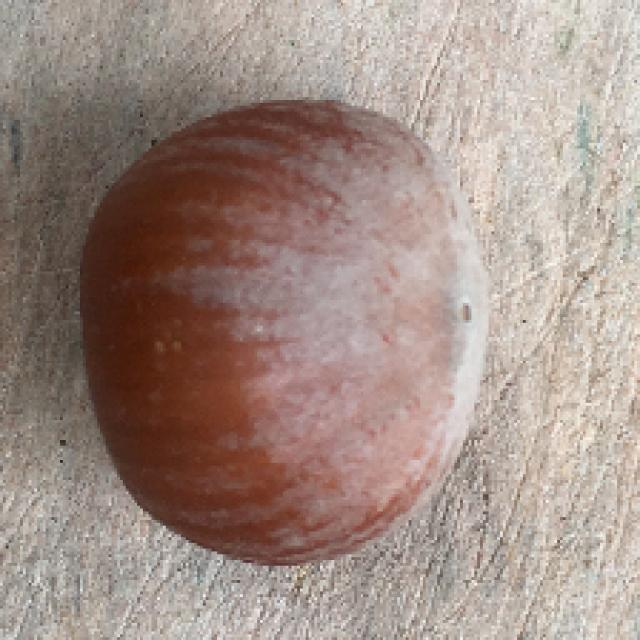qualityHazelnut: (79, 96, 495, 566)
